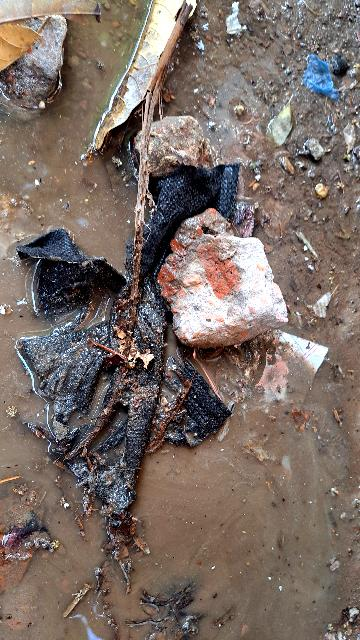mask: (8, 125, 235, 524)
